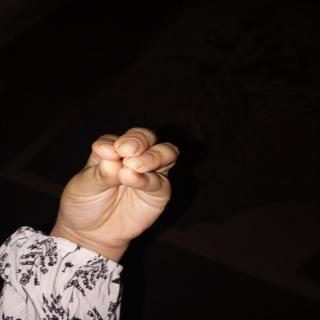HA: (46, 118, 198, 252)
